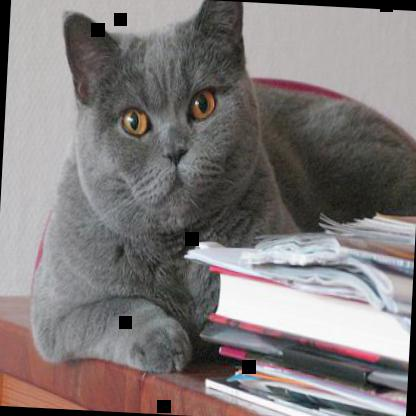cat: (28, 0, 415, 390)
